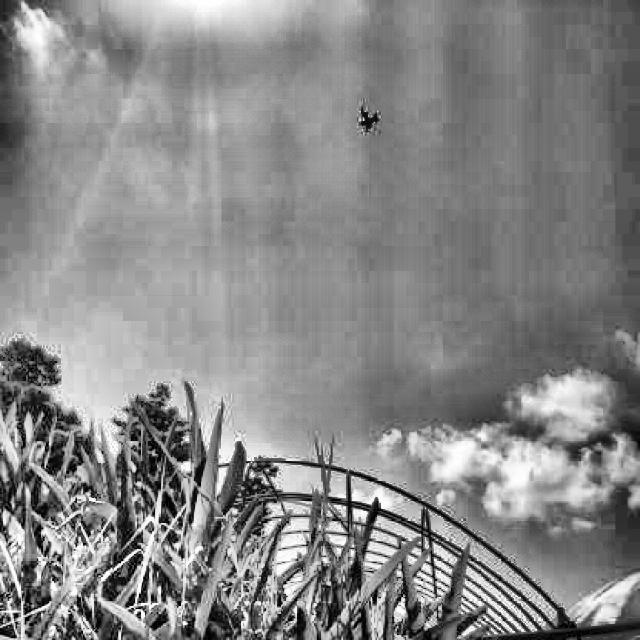V22: (360, 105, 378, 133)
